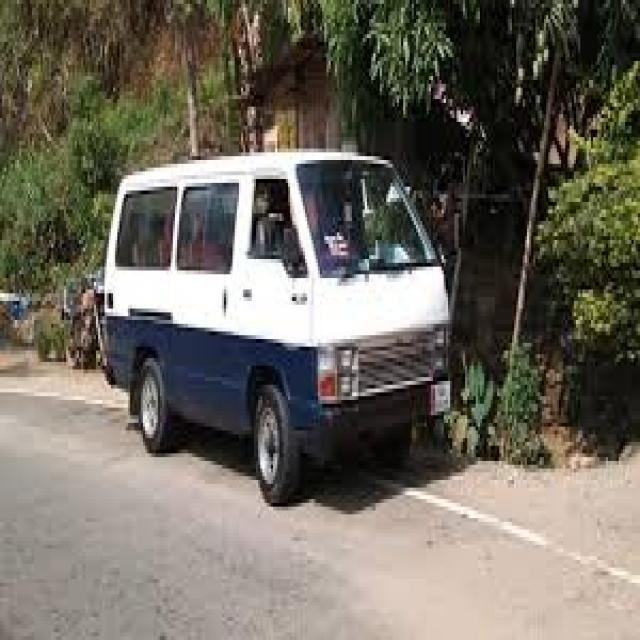tractor: (63, 139, 586, 526)
